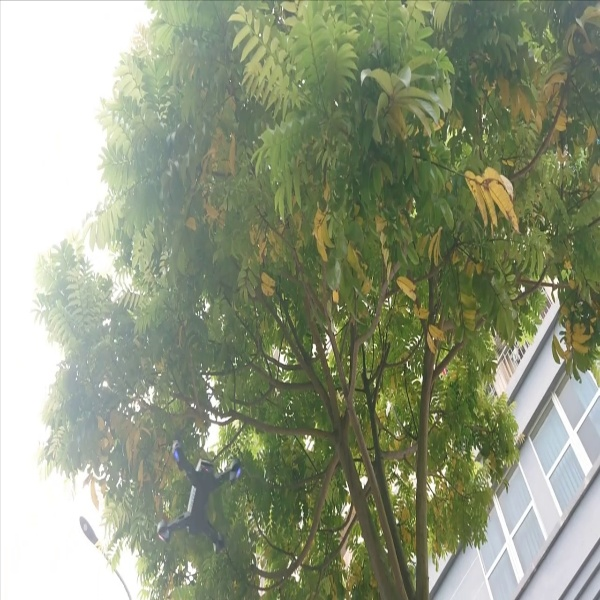drone: (148, 430, 254, 558)
